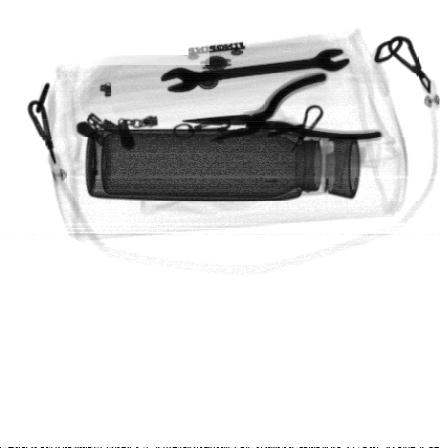Pliers: (183, 71, 384, 143)
Wrench: (163, 49, 349, 92)
